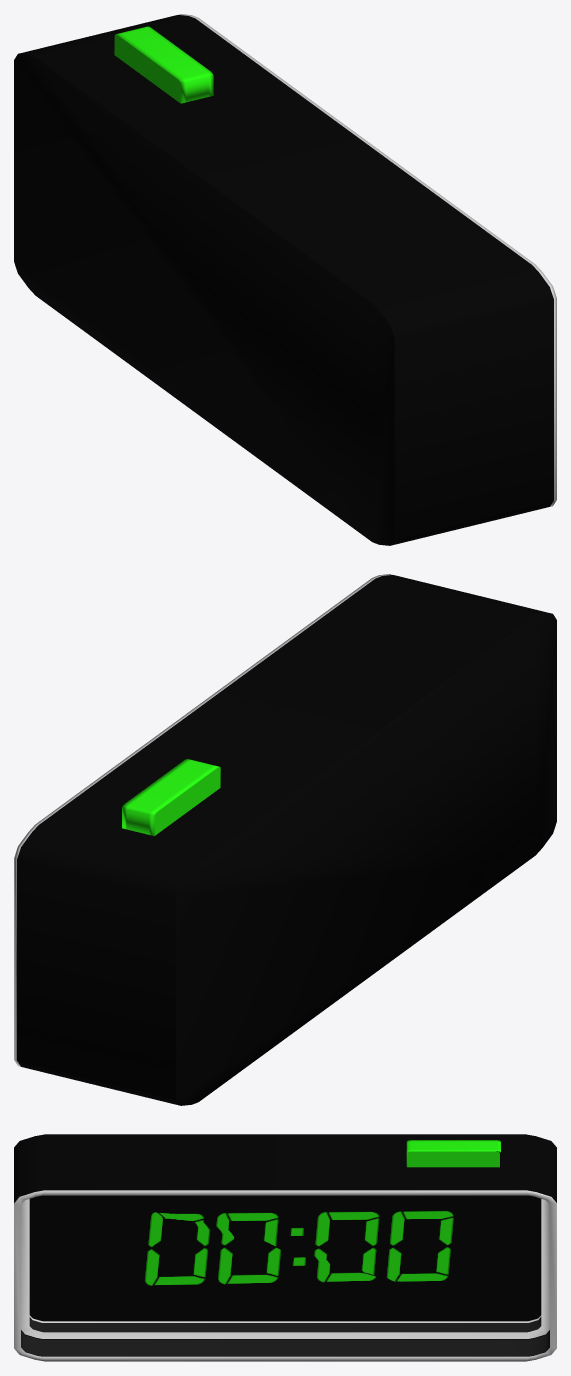
The model's file is Clock.fbx.
3 renders of one model, top to bottom at view 1: azimuth 30°, elevation 25°; view 2: azimuth 150°, elevation 25°; view 3: azimuth 270°, elevation 25°, orthographic. The views are drawn at different scales.
Parts seen in each view (by area): view 1: Clock; view 2: Clock; view 3: Clock.
Part boxes in pixels (x1,y1,x2,y2): Clock: (14, 14, 556, 545); Clock: (14, 574, 556, 1105); Clock: (14, 1134, 556, 1361).
Size of the model in its own units: 36.69 by 55.96 by 148.
